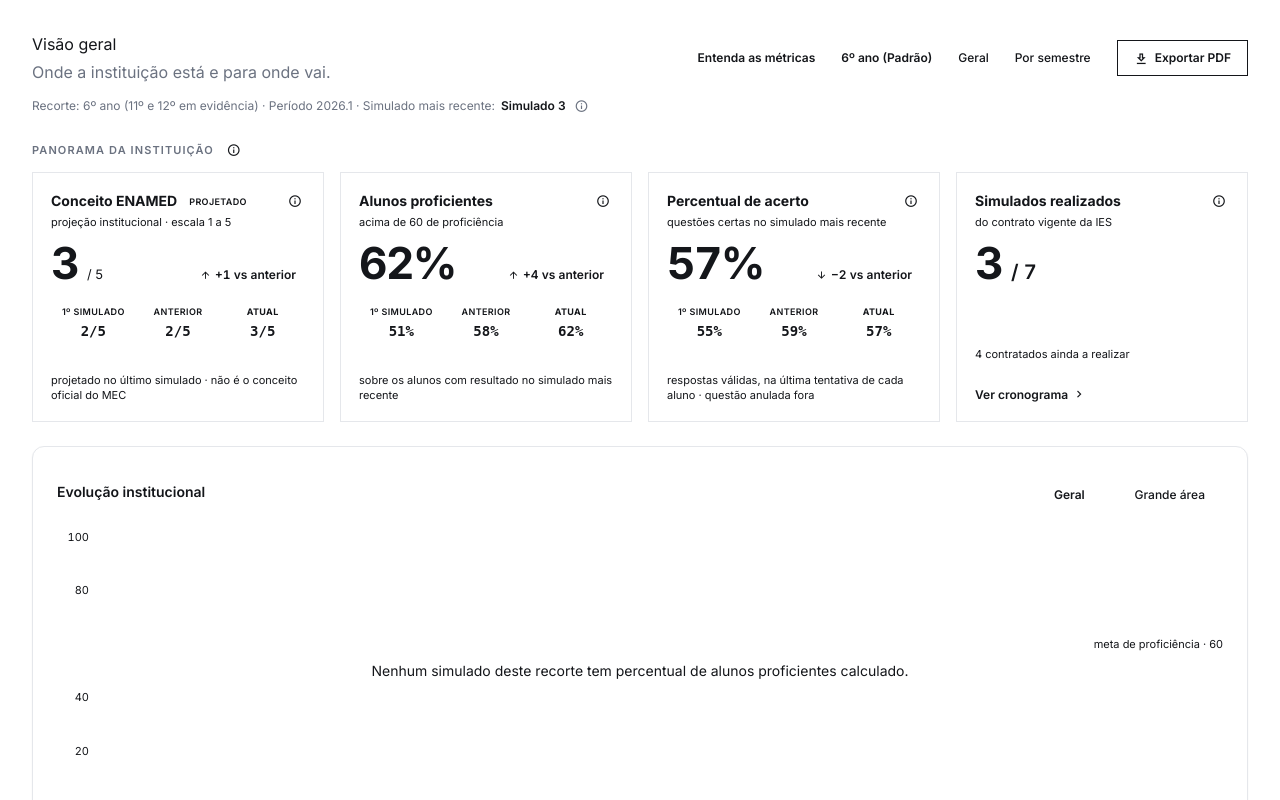
Test: rota VisaoGeral › a barra de filtros traz o gatilho do glossário, ao lado do filtro de semestre
This screenshot has width=1280, height=800.
Click the button "Entenda as métricas": (756, 58) [698, 49, 815, 67]
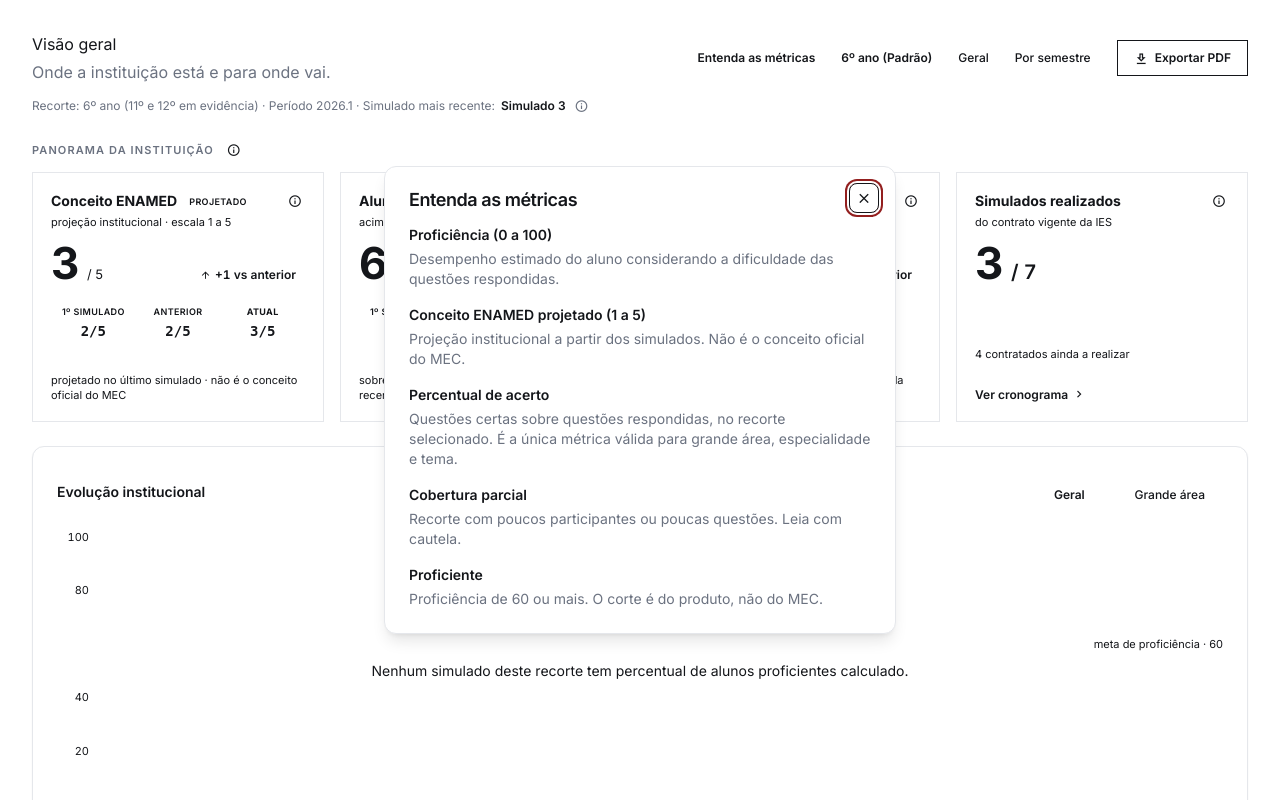
Expected: the dialog shows "Percentual de acerto", [409, 386, 549, 403]
